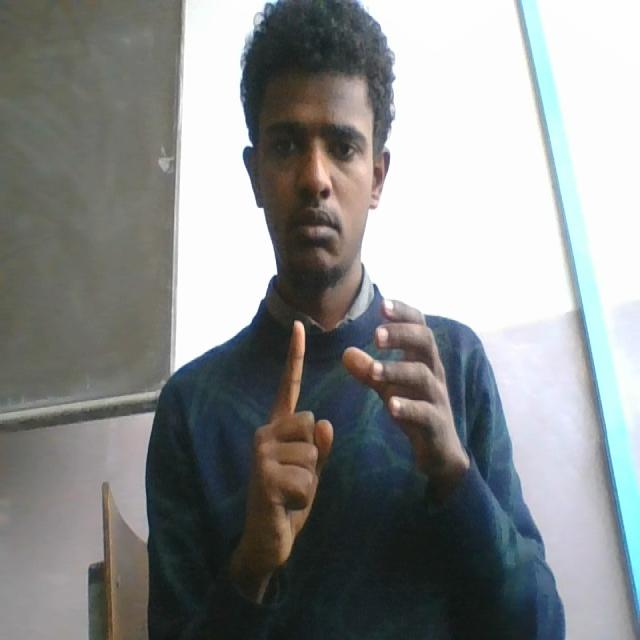melqeq: (236, 297, 458, 596)
